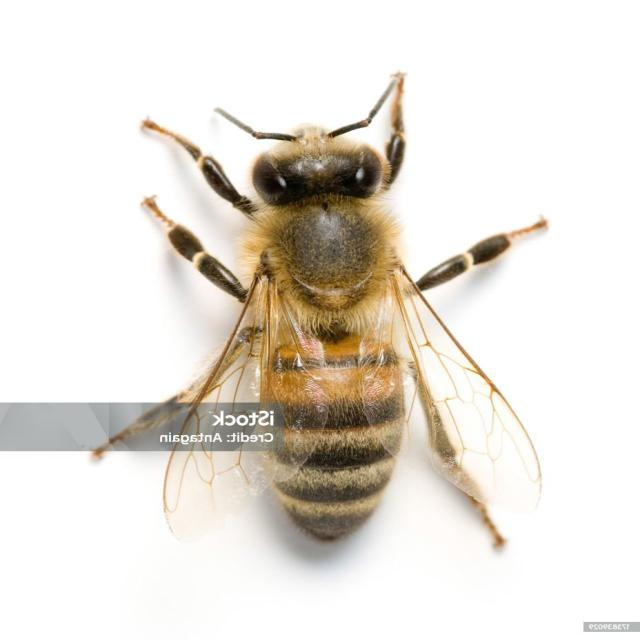bee: (85, 69, 552, 565)
